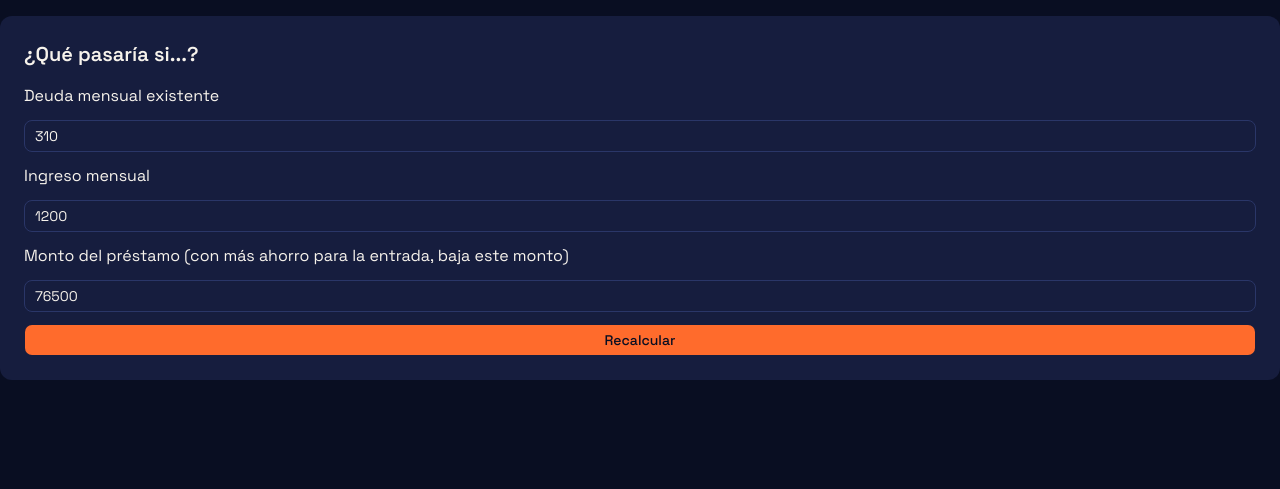
SimuladorPanel › lets the user adjust the loan amount, so LTV (not just DTI) can be recalculated
The image size is (1280, 489).
Replace the text in the field labelled "Monto del préstamo" with "60000" at [640, 296], box [24,280,1256,312]
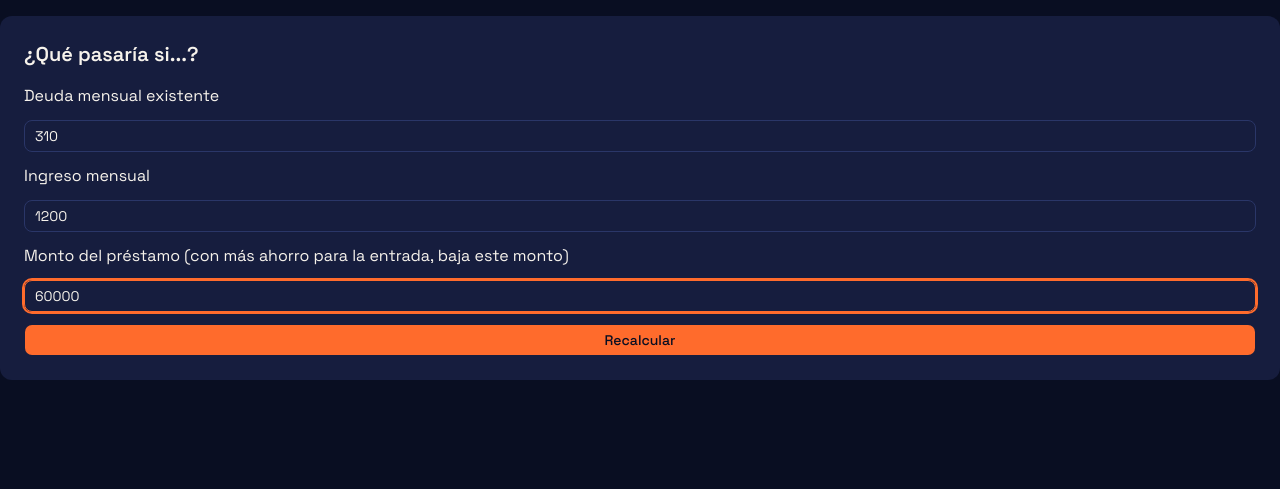
Click the button "Recalcular" at [640, 340], box [24,324,1256,356]
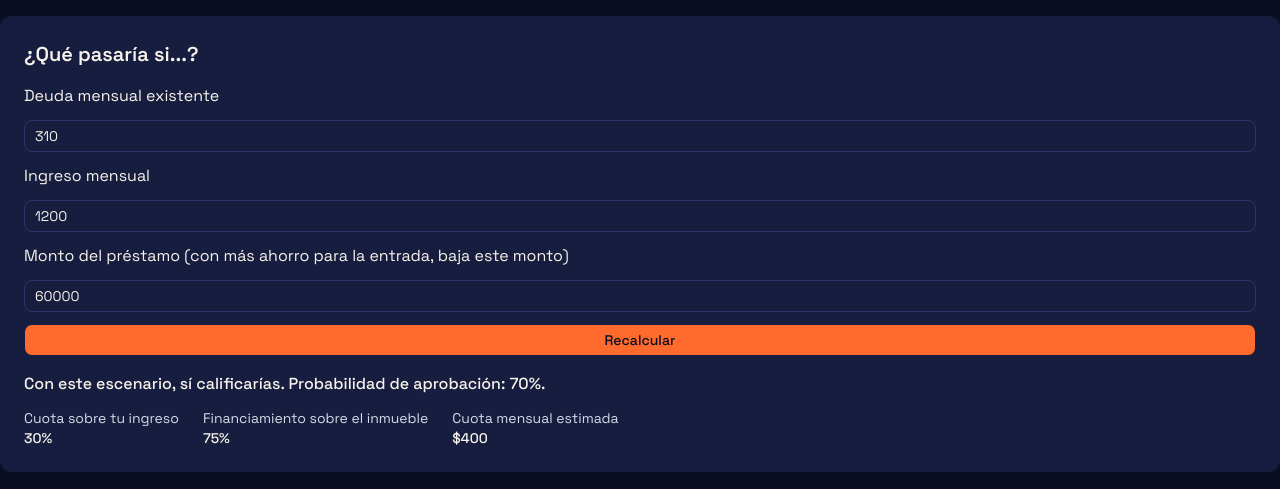
Expected: the text "Con este escenario" is shown, [24,373,284,394]
